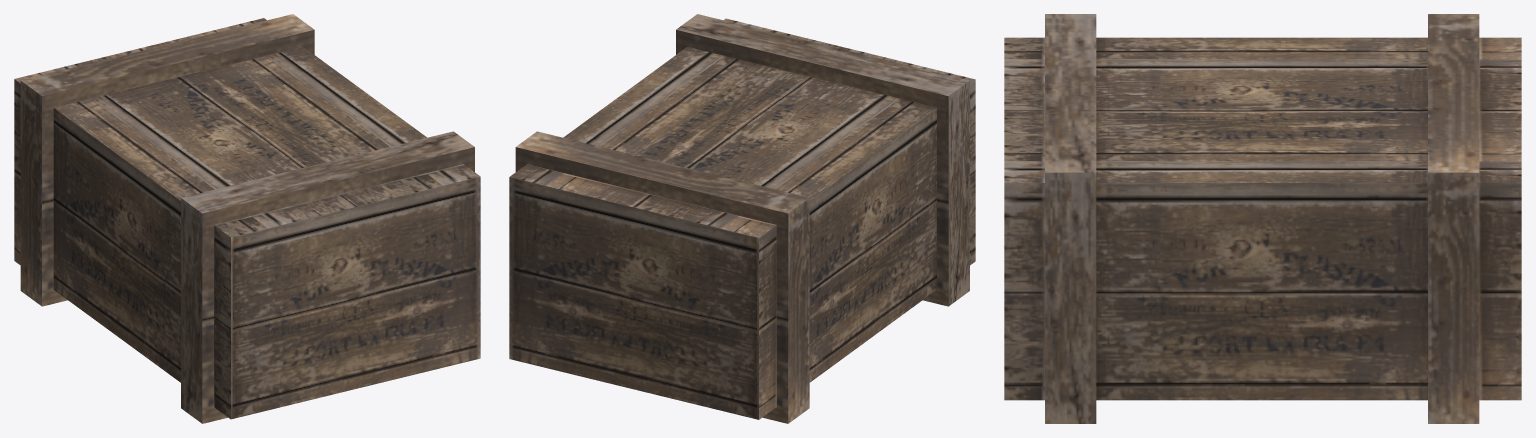
The model's file is Box_Wood_02.fbx.
3 views of the same model, side by side, from view 1: azimuth 30°, elevation 25°; view 2: azimuth 150°, elevation 25°; view 3: azimuth 270°, elevation 25° (orthographic). The views are drawn at different scales.
Parts seen in each view (by area): view 1: Box_Wood_02; view 2: Box_Wood_02; view 3: Box_Wood_02.
Part boxes in pixels (left/top/right/bottom): Box_Wood_02: left=14, top=14, right=480, bottom=423; Box_Wood_02: left=509, top=14, right=975, bottom=423; Box_Wood_02: left=1004, top=14, right=1521, bottom=423.
Bounding box in the file's own units: 59.42 × 43.82 × 81.79.
